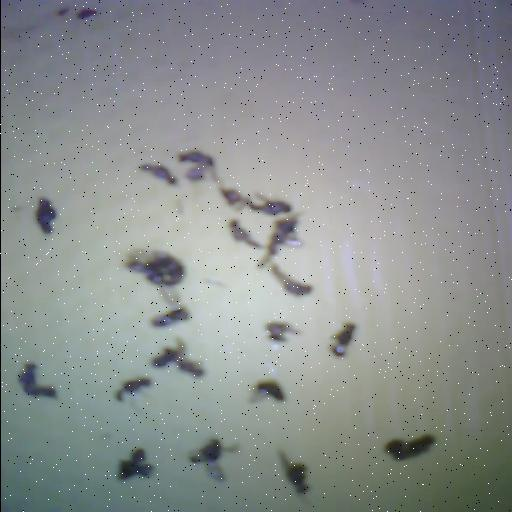Insects: (258, 214, 302, 268), (126, 251, 183, 286), (152, 339, 204, 377), (190, 440, 238, 481), (269, 264, 312, 296), (19, 363, 57, 398), (278, 451, 308, 494), (385, 435, 435, 460), (178, 152, 218, 181), (118, 448, 153, 480), (228, 220, 262, 248), (152, 339, 185, 367), (246, 195, 291, 215), (115, 378, 151, 401), (330, 324, 355, 357), (150, 308, 188, 328), (140, 164, 176, 185), (250, 381, 284, 403), (36, 198, 56, 234), (266, 322, 300, 341), (219, 187, 246, 210), (178, 152, 213, 167), (177, 360, 204, 378), (19, 363, 35, 389), (185, 166, 205, 181), (77, 9, 97, 19), (204, 278, 226, 287), (175, 200, 183, 216), (56, 8, 69, 16)
